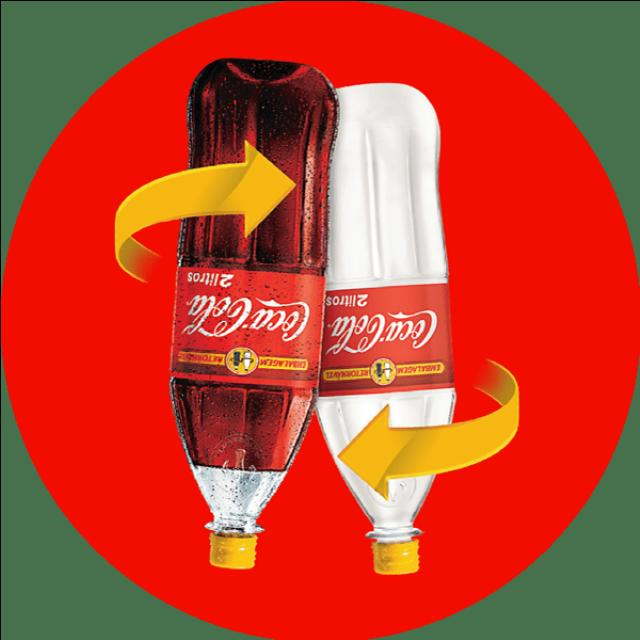bottom: (180, 54, 340, 129), (329, 76, 442, 148)
cap: (360, 520, 433, 580), (203, 517, 264, 573)
